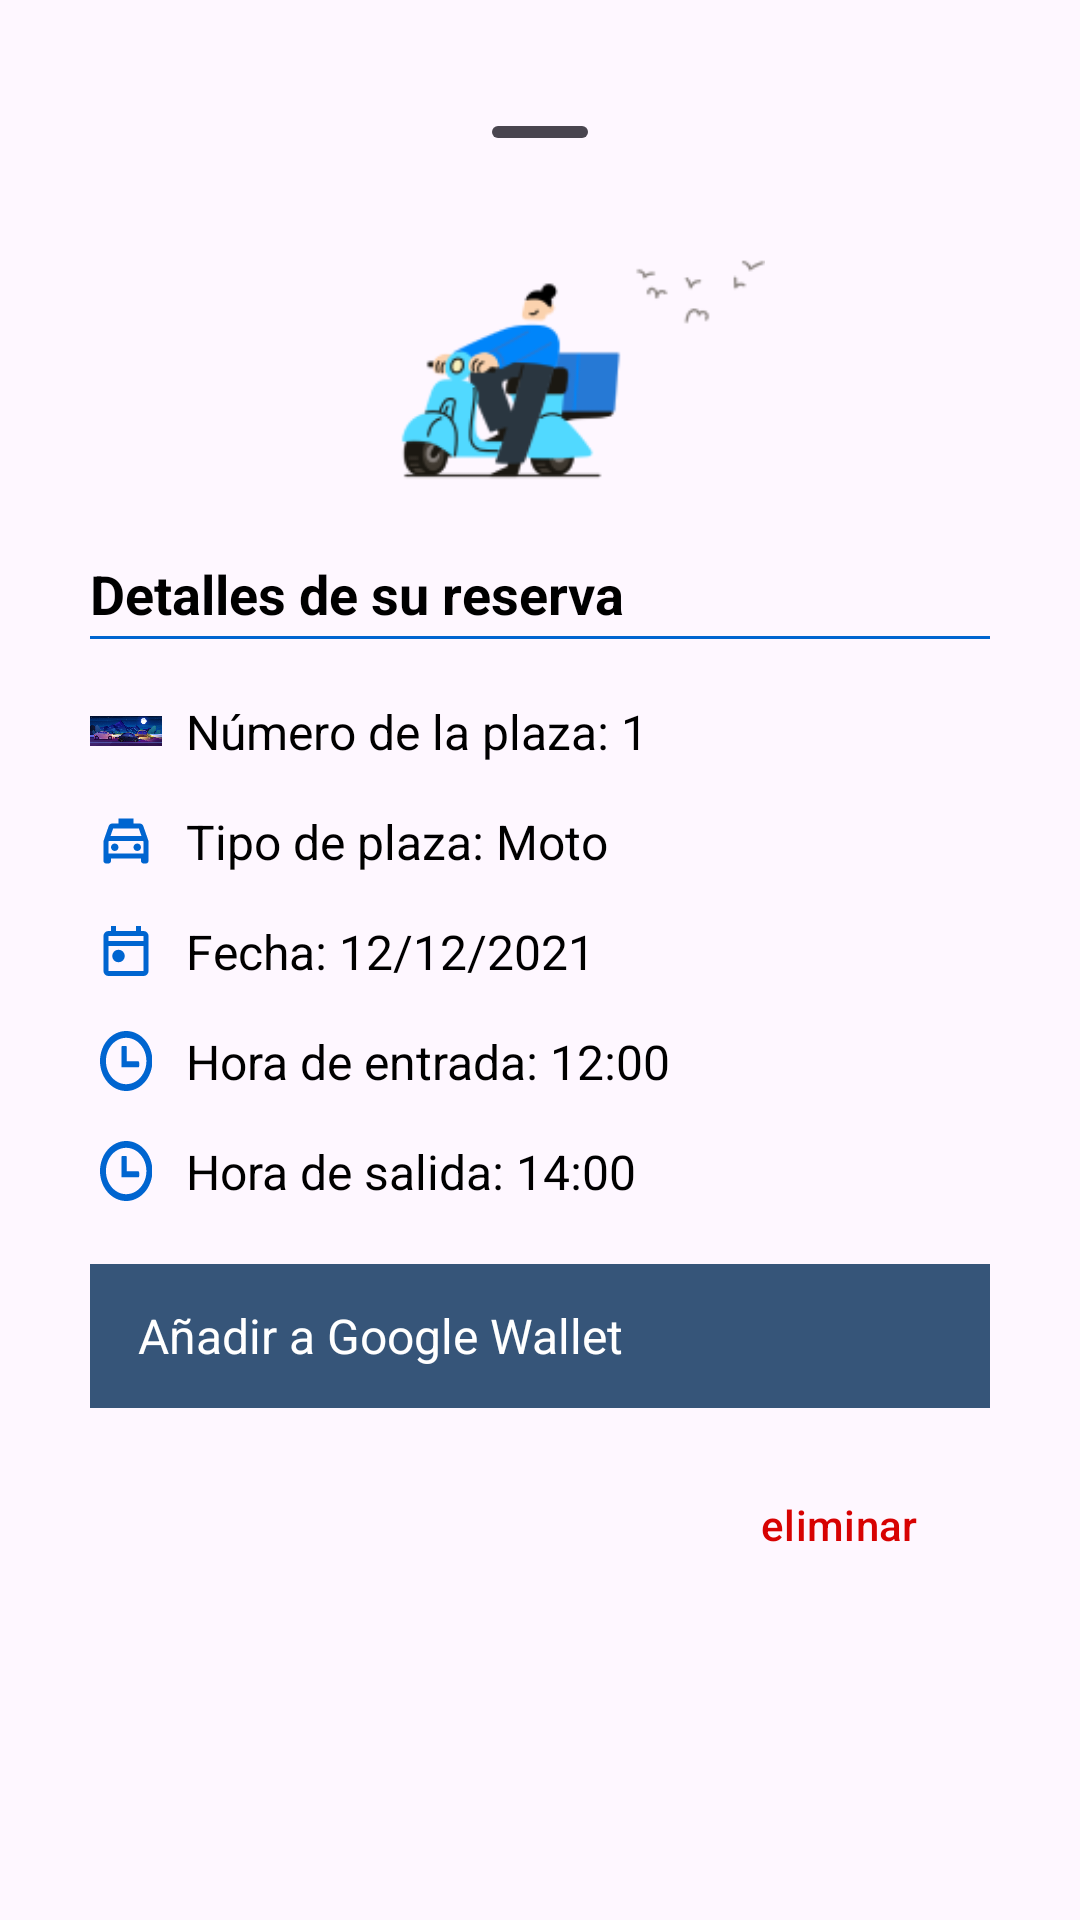

Icon click points for this 1080px×1920px phone screenshot, format [x,y]:
auto: [126,841]
calendar: [126,951]
clock: [126,1061], [126,1171]
parking: [126,731]
